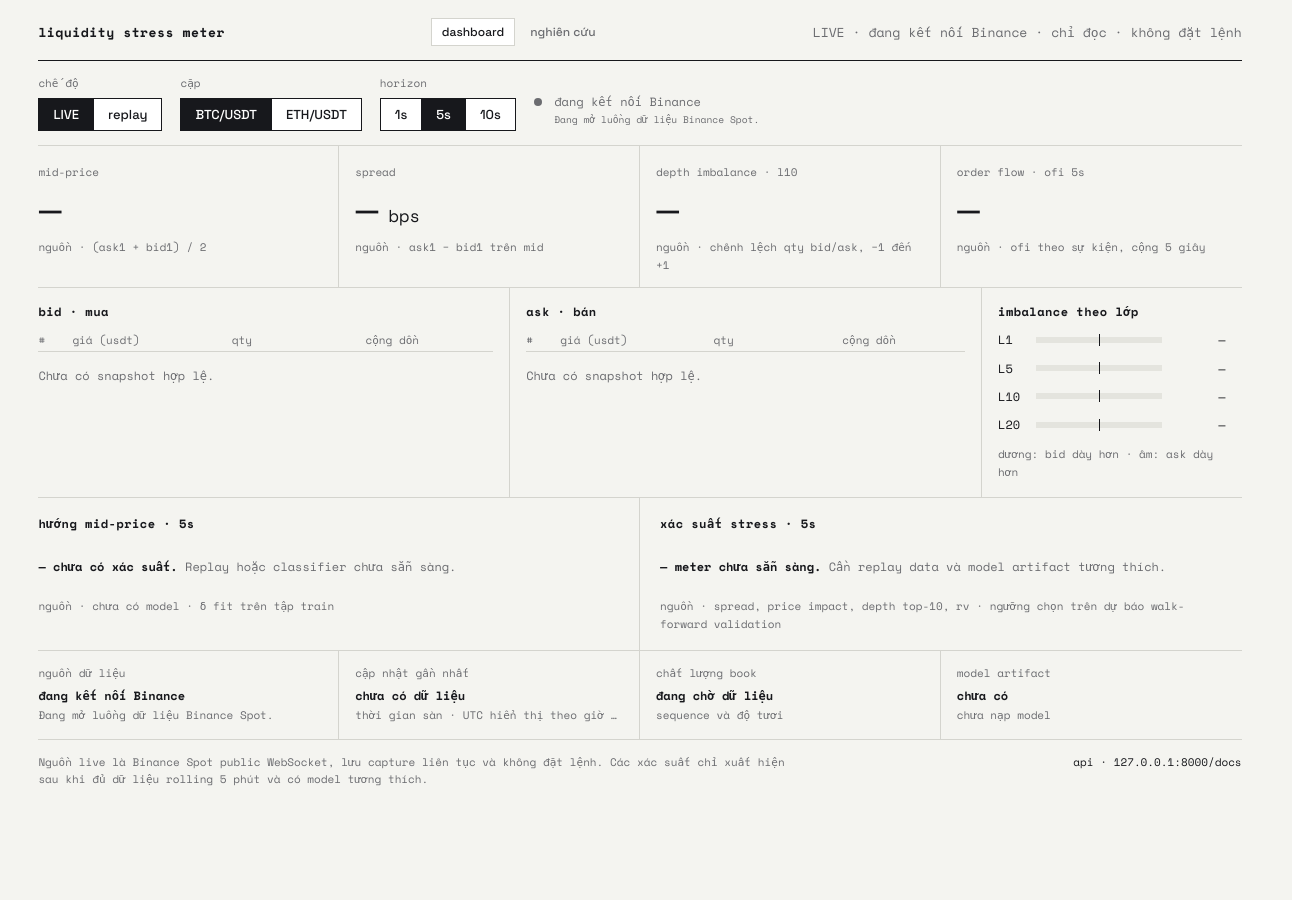
Test: LOBApp stress decision threshold › shows unavailable model output without presenting fixture probabilities as real
What coordinates should you click on to do the following:
click the button "replay"
I would click on:
 (128, 114)
Its box is left=94, top=99, right=162, bottom=130.
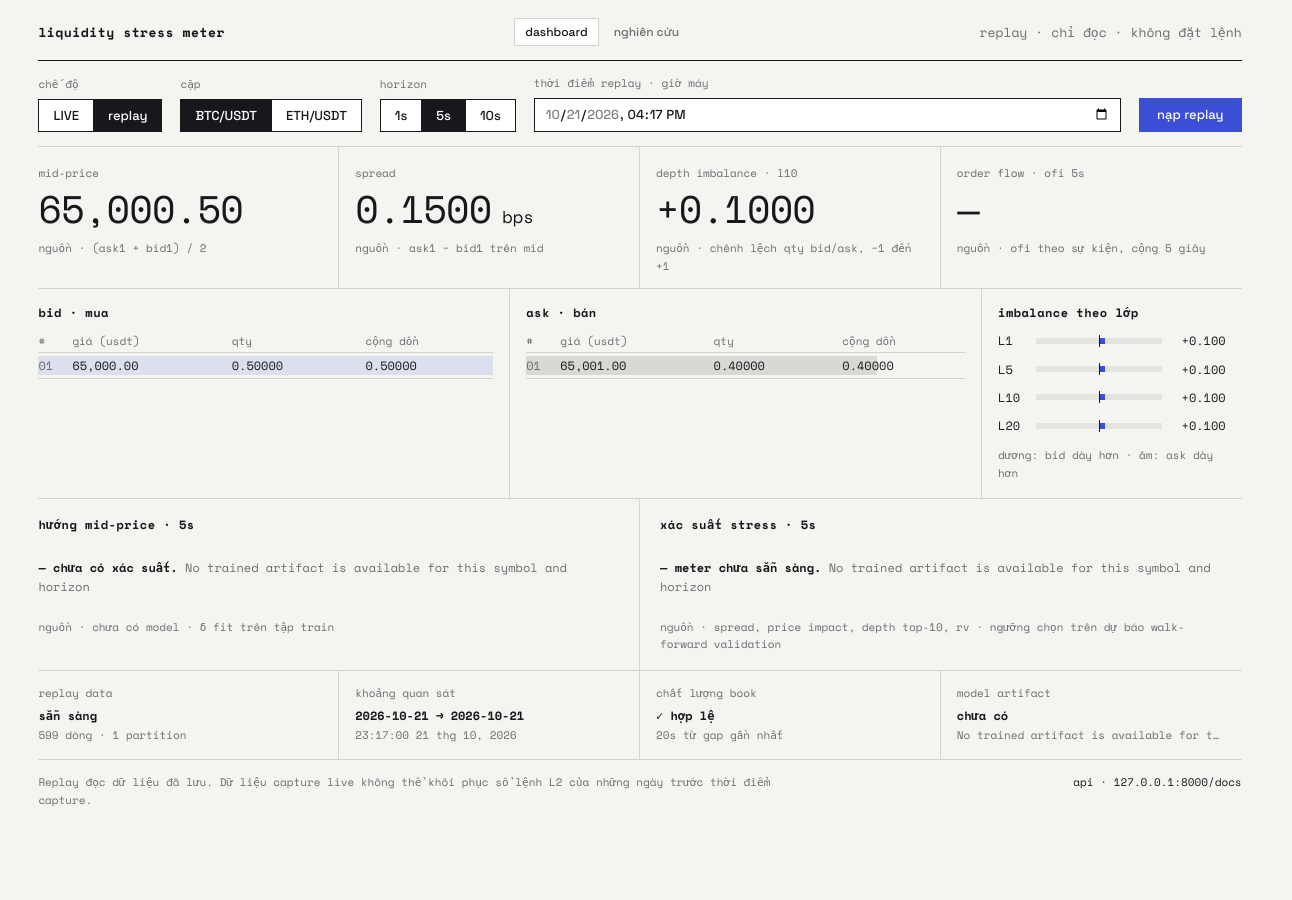
Expected: the text "— chưa có xác suất." is shown, left=38, top=559, right=178, bottom=576
Expected: the text "No trained artifact is available" is shown, left=38, top=559, right=567, bottom=595
